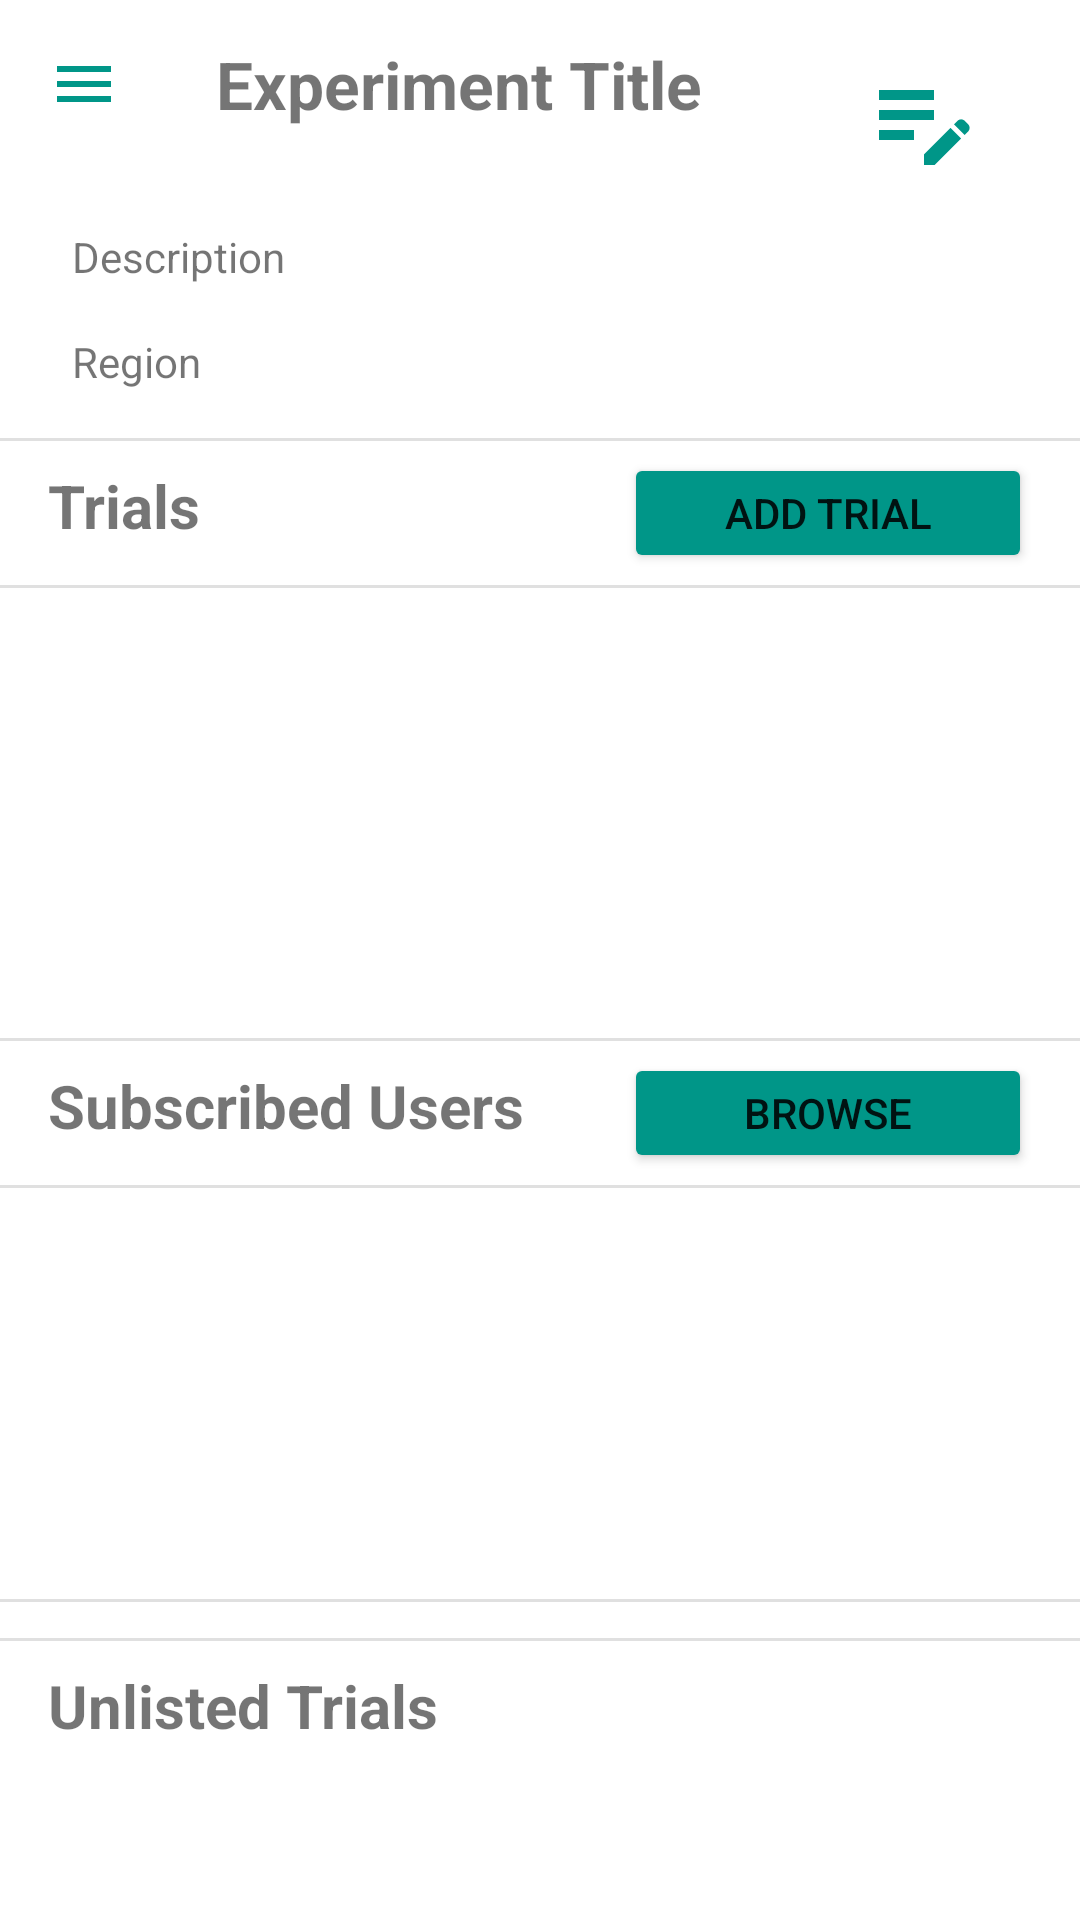

Where icons sit on this 1080 x 1920 app screen, as (x1, y1, x2, y2):
edit note: (879, 90, 970, 165)
